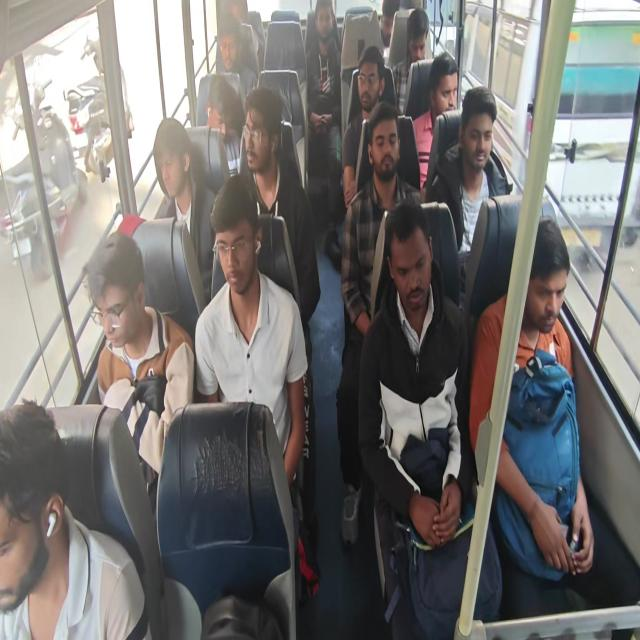person: (357, 198, 503, 638), (469, 214, 594, 582), (336, 100, 422, 546), (238, 86, 321, 528), (0, 398, 150, 638), (194, 174, 308, 488), (85, 230, 195, 481), (426, 85, 508, 307), (152, 116, 217, 300), (305, 1, 343, 261), (341, 45, 386, 209), (412, 51, 459, 192), (392, 8, 429, 114), (216, 12, 257, 100), (205, 75, 244, 137), (379, 0, 400, 49)
